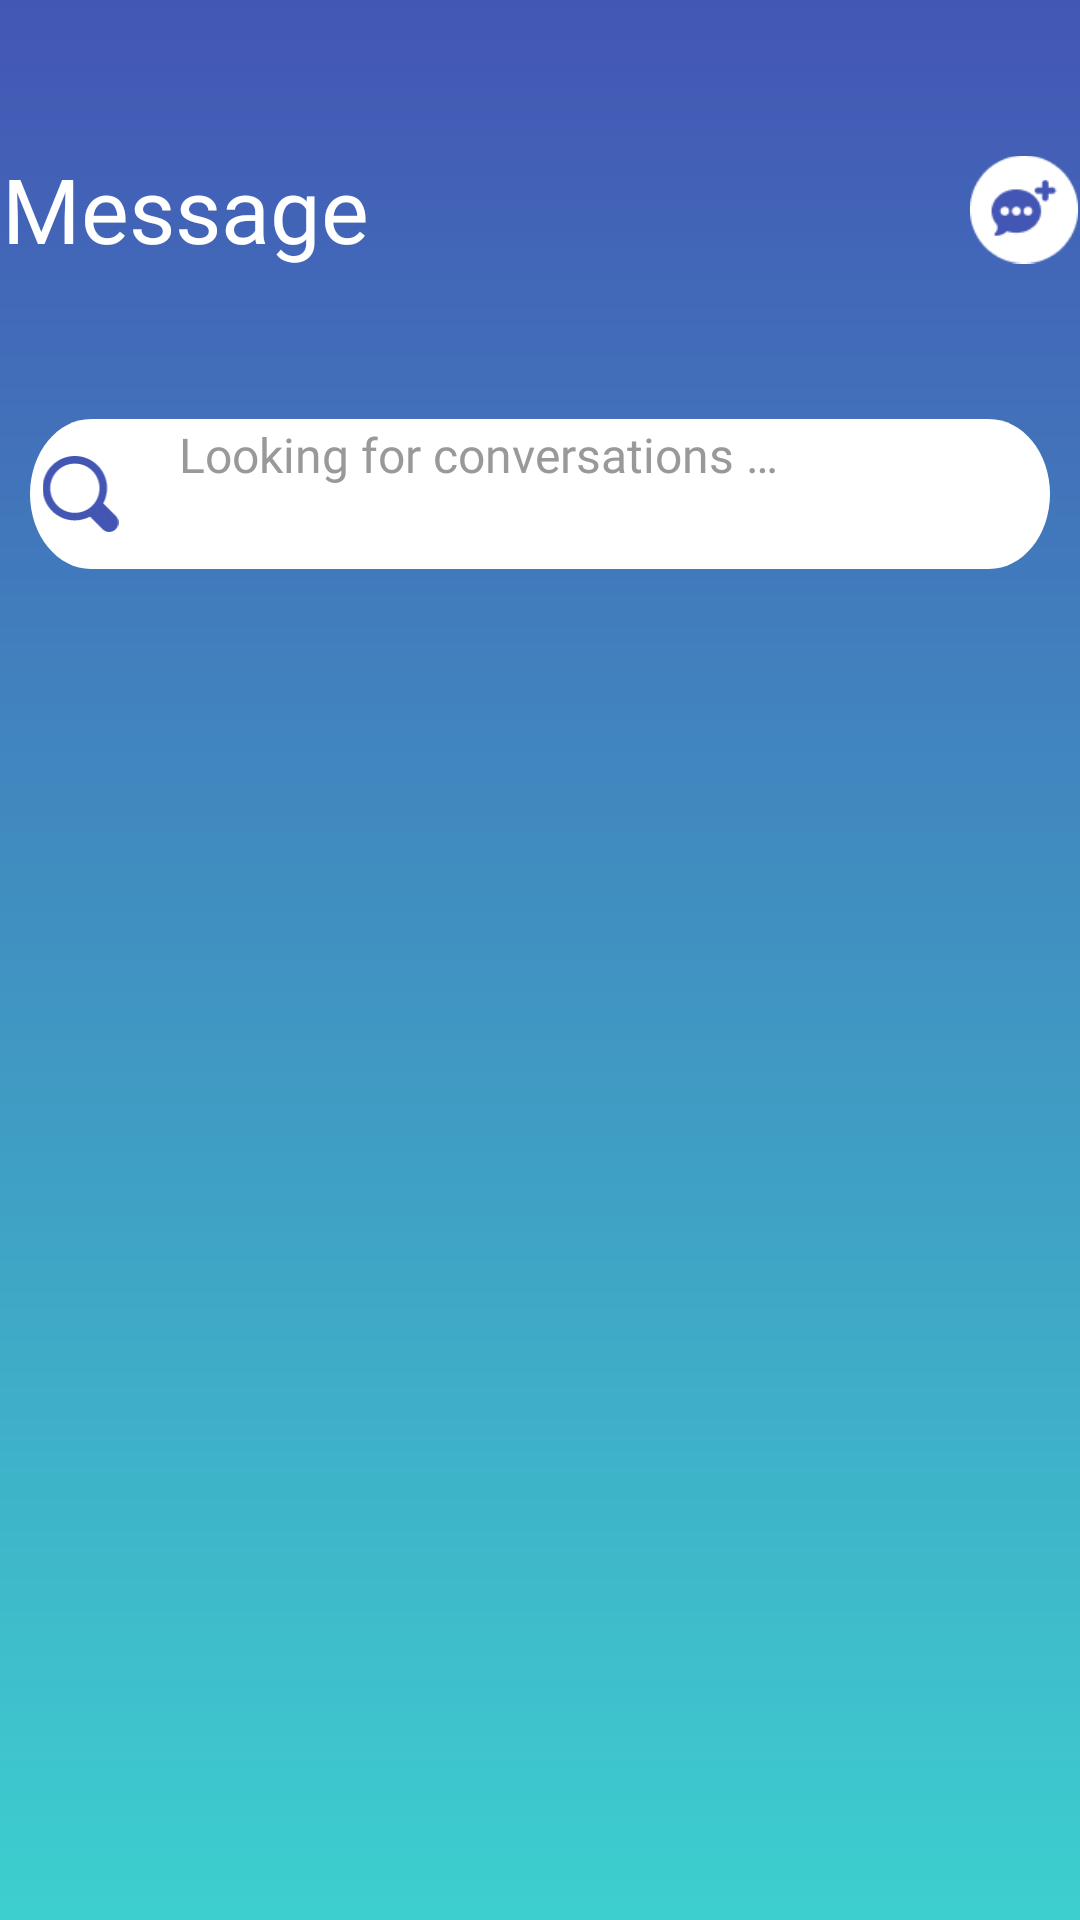

Screen size 1080 x 1920. Icon name, then its center in pixels as (x,y):
create message: (1024,210)
search: (81,494)
